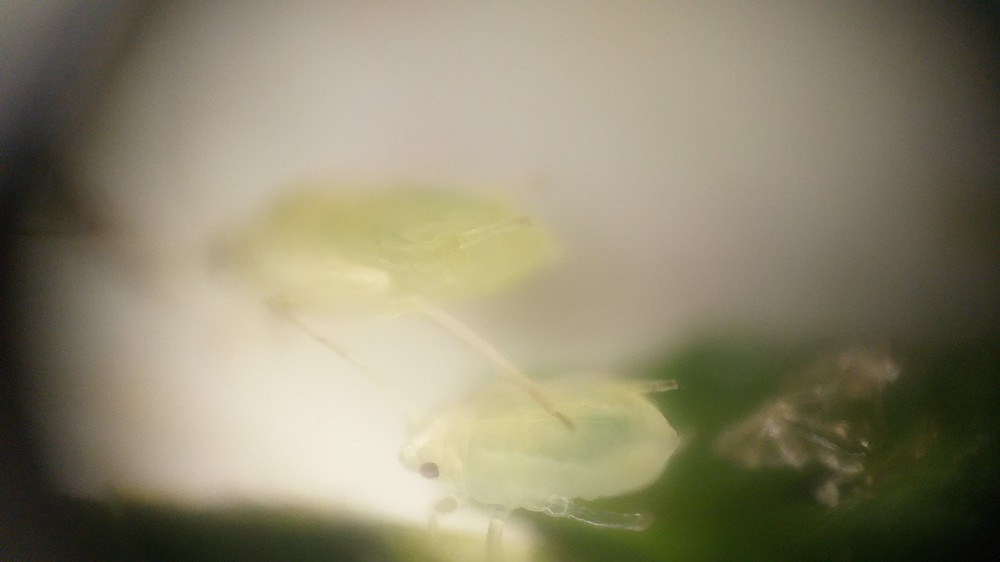Pulgon: (141, 152, 609, 423), (365, 345, 711, 546)
